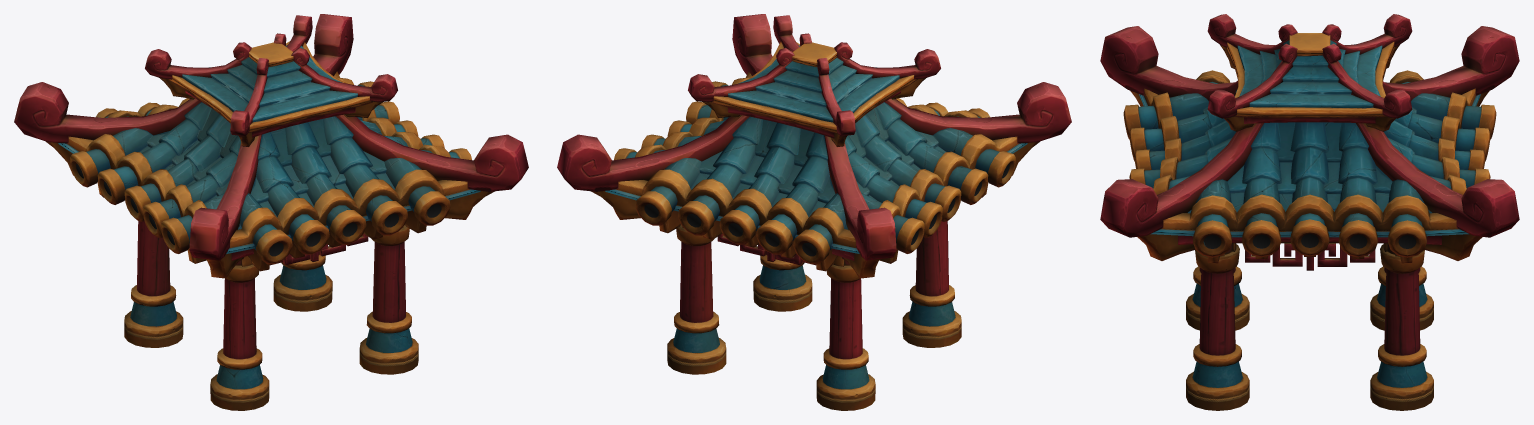
Rendered from SM_Temple.glb.
3 views of the same model, side by side, from view 1: azimuth 30°, elevation 25°; view 2: azimuth 150°, elevation 25°; view 3: azimuth 270°, elevation 25° (orthographic). The views are drawn at different scales.
Parts seen in each view (by area): view 1: SM_Temple; view 2: SM_Temple; view 3: SM_Temple.
Boxes of the visible parts, box(x1,y1,x2,y2) form: SM_Temple: box(14, 14, 528, 410); SM_Temple: box(557, 14, 1071, 410); SM_Temple: box(1100, 14, 1519, 410).
Size of the model in its own units: 11.94 by 10.15 by 11.94.
3 materials, 3 textured.
